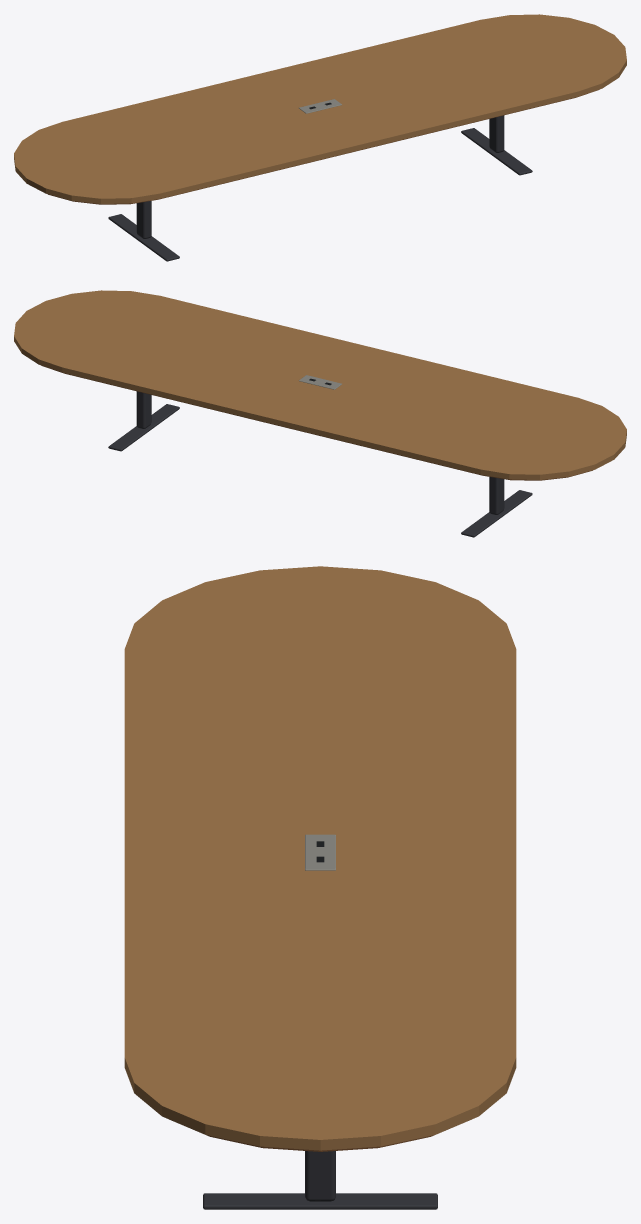
The model's file is meeting-table.glb.
The picture shows the model from 3 angles, top to bottom: view 1: azimuth 30°, elevation 25°; view 2: azimuth 150°, elevation 25°; view 3: azimuth 270°, elevation 25°; orthographic projection. The views are drawn at different scales.
Parts seen in each view (by area): view 1: toon_wood, toon_metal; view 2: toon_wood, toon_metal; view 3: toon_wood, toon_metal, toon_brushed.
Boxes of the visible parts, left/top/right/bottom form: toon_wood: left=14, top=14, right=626, bottom=204; toon_metal: left=108, top=115, right=532, bottom=261; toon_wood: left=14, top=290, right=626, bottom=480; toon_metal: left=108, top=391, right=532, bottom=537; toon_wood: left=124, top=566, right=516, bottom=1151; toon_metal: left=203, top=1151, right=437, bottom=1209; toon_brushed: left=305, top=834, right=335, bottom=870.
Size of the model in its own units: 5.2 by 0.7619 by 1.5.
